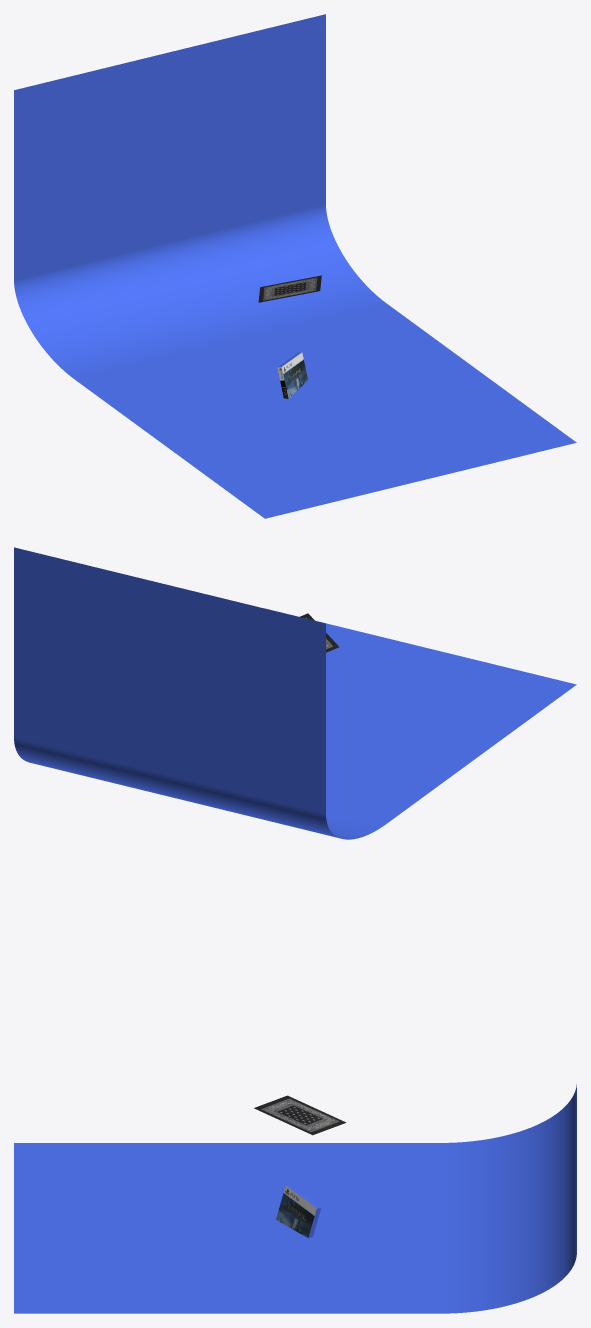
The model's file is game.gltf.
3 views of the same model, one above another, from view 1: azimuth 30°, elevation 25°; view 2: azimuth 150°, elevation 25°; view 3: azimuth 270°, elevation 25° (orthographic). The views are drawn at different scales.
Parts seen in each view (by area): view 1: Plane, Bandana, Cube; view 2: Plane; view 3: Plane, Bandana, Cube.
Boxes of the visible parts, bbox=[...] form: Plane: bbox=[14, 14, 576, 518]; Bandana: bbox=[258, 275, 321, 302]; Cube: bbox=[277, 352, 307, 398]; Plane: bbox=[14, 547, 576, 839]; Plane: bbox=[14, 1084, 576, 1313]; Bandana: bbox=[254, 1095, 346, 1135]; Cube: bbox=[276, 1185, 320, 1238].
Size of the model in its own units: 20 by 16.77 by 27.88.
5 materials, 4 textured.
